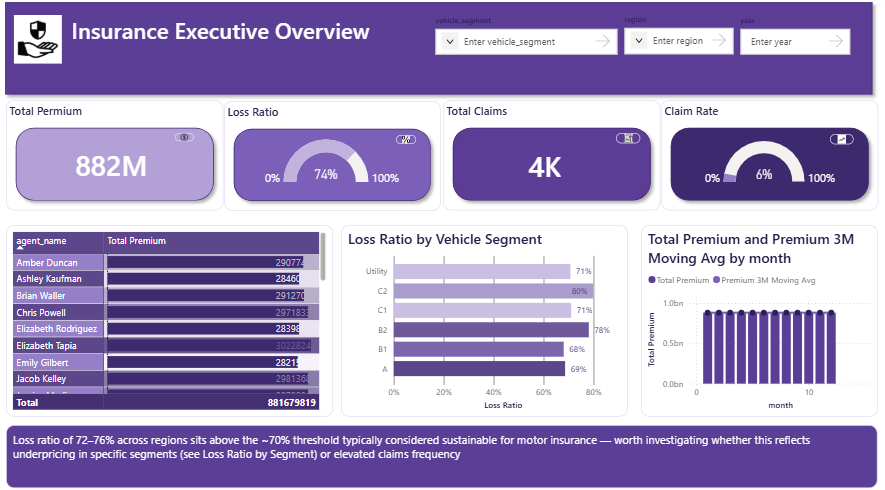

The dashboard page shown, as its layout file describes it:
{"tool":"powerbi","page":{"name":"Executive Dashboard","canvas":[1280,720],"ordinal":0},"visuals":[{"type":"shape","box":[0,0,1266.7,150.7],"z":0},{"type":"textbox","title":"Insurance Executive Overview","box":[100,27.5,510.1,104.3],"z":1000},{"type":"shape","title":"Loss Ratio","box":[324.6,150.7,311.6,158],"z":3000},{"type":"shape","title":"Total Permium","box":[10.3,150,313.2,158.8],"z":4000},{"type":"gauge","fields":{"Y":["dim_agent.Loss Ratio"]},"box":[373,194.4,213.1,90.7],"z":5000},{"type":"shape","title":"Total Claims","box":[639.7,150,313.2,158.8],"z":6000},{"type":"shape","title":"Claim Rate","box":[952.9,150,313.2,158.8],"z":6000,"group":"g1"},{"type":"pivotTable","title":"Agent vise Total Premium","fields":{"Rows":["dim_agent.agent_name"],"Values":["dim_agent.Total Premium"]},"box":[10.1,329.8,470.9,276.5],"z":7000},{"type":"barChart","title":"Loss Ratio by Vehicle Segment","fields":{"Category":["dim_policy.segment"],"Y":["dim_agent.Loss Ratio"]},"box":[492.5,329.8,413.3,276.5],"z":8000},{"type":"cardVisual","fields":{"Data":["dim_agent.Total Premium"]},"box":[80.8,189,172.6,104.1],"z":9000},{"type":"gauge","fields":{"Y":["dim_agent.Claim Rate"]},"box":[1006.5,193,207.4,95],"z":10000,"group":"g1"},{"type":"lineClusteredColumnComboChart","fields":{"Y":["dim_agent.Total Premium"],"Y2":["dim_agent.Premium 3M Moving Avg"],"Category":["dim_date.month"]},"box":[924.5,329.8,341.3,276.5],"z":10000},{"type":"cardVisual","fields":{"Data":["dim_agent.Total Claims"]},"box":[733,190.1,172.8,105.1],"z":11000},{"type":"textbox","box":[10.8,618.5,1255.4,90.8],"z":12000},{"type":"textSlicer","fields":{"Values":["dim_agent.region"]},"box":[895.7,25.9,167,63.4],"z":13000},{"type":"textSlicer","fields":{"Values":["dim_policy.vehicle_segment"]},"box":[623.5,27.4,272.2,61.9],"z":14000},{"type":"textSlicer","fields":{"Values":["dim_date.year"]},"box":[1062.7,27.4,168.5,61.9],"z":15000},{"type":"group","id":"g1","title":"Group 1","box":[952.9,150,313.2,158.8],"z":16000},{"type":"image","box":[253.7,197.6,26.8,12.2],"z":17000},{"type":"image","box":[572,200,29.3,13.4],"z":18000},{"type":"image","box":[887.8,197.6,35.4,14.6],"z":19000},{"type":"image","box":[1196.3,198.8,34.1,14.6],"z":20000},{"type":"image","box":[11,28,89,69.5],"z":21000}]}

Visuals, with their boxes in screenshot pixels (x1, y1, x2, y2), scaled from the page's 1280x720 canvas onto the 885x490 screenshot:
shape: rect(0, 0, 876, 103)
"Insurance Executive Overview" textbox: rect(69, 19, 422, 90)
"Loss Ratio" shape: rect(224, 103, 440, 210)
"Total Permium" shape: rect(7, 102, 224, 210)
gauge - dim_agent.Loss Ratio: rect(258, 132, 405, 194)
"Total Claims" shape: rect(442, 102, 659, 210)
"Claim Rate" shape: rect(659, 102, 875, 210)
"Agent vise Total Premium" pivotTable: rect(7, 224, 333, 413)
"Loss Ratio by Vehicle Segment" barChart: rect(341, 224, 626, 413)
cardVisual - dim_agent.Total Premium: rect(56, 129, 175, 199)
gauge - dim_agent.Claim Rate: rect(696, 131, 839, 196)
lineClusteredColumnComboChart - dim_agent.Total Premium x dim_agent.Premium 3M Moving Avg: rect(639, 224, 875, 413)
cardVisual - dim_agent.Total Claims: rect(507, 129, 626, 201)
textbox: rect(7, 421, 875, 483)
textSlicer - dim_agent.region: rect(619, 18, 735, 61)
textSlicer - dim_policy.vehicle_segment: rect(431, 19, 619, 61)
textSlicer - dim_date.year: rect(735, 19, 851, 61)
"Group 1" group: rect(659, 102, 875, 210)
image: rect(175, 134, 194, 143)
image: rect(395, 136, 416, 145)
image: rect(614, 134, 638, 144)
image: rect(827, 135, 851, 145)
image: rect(8, 19, 69, 66)
